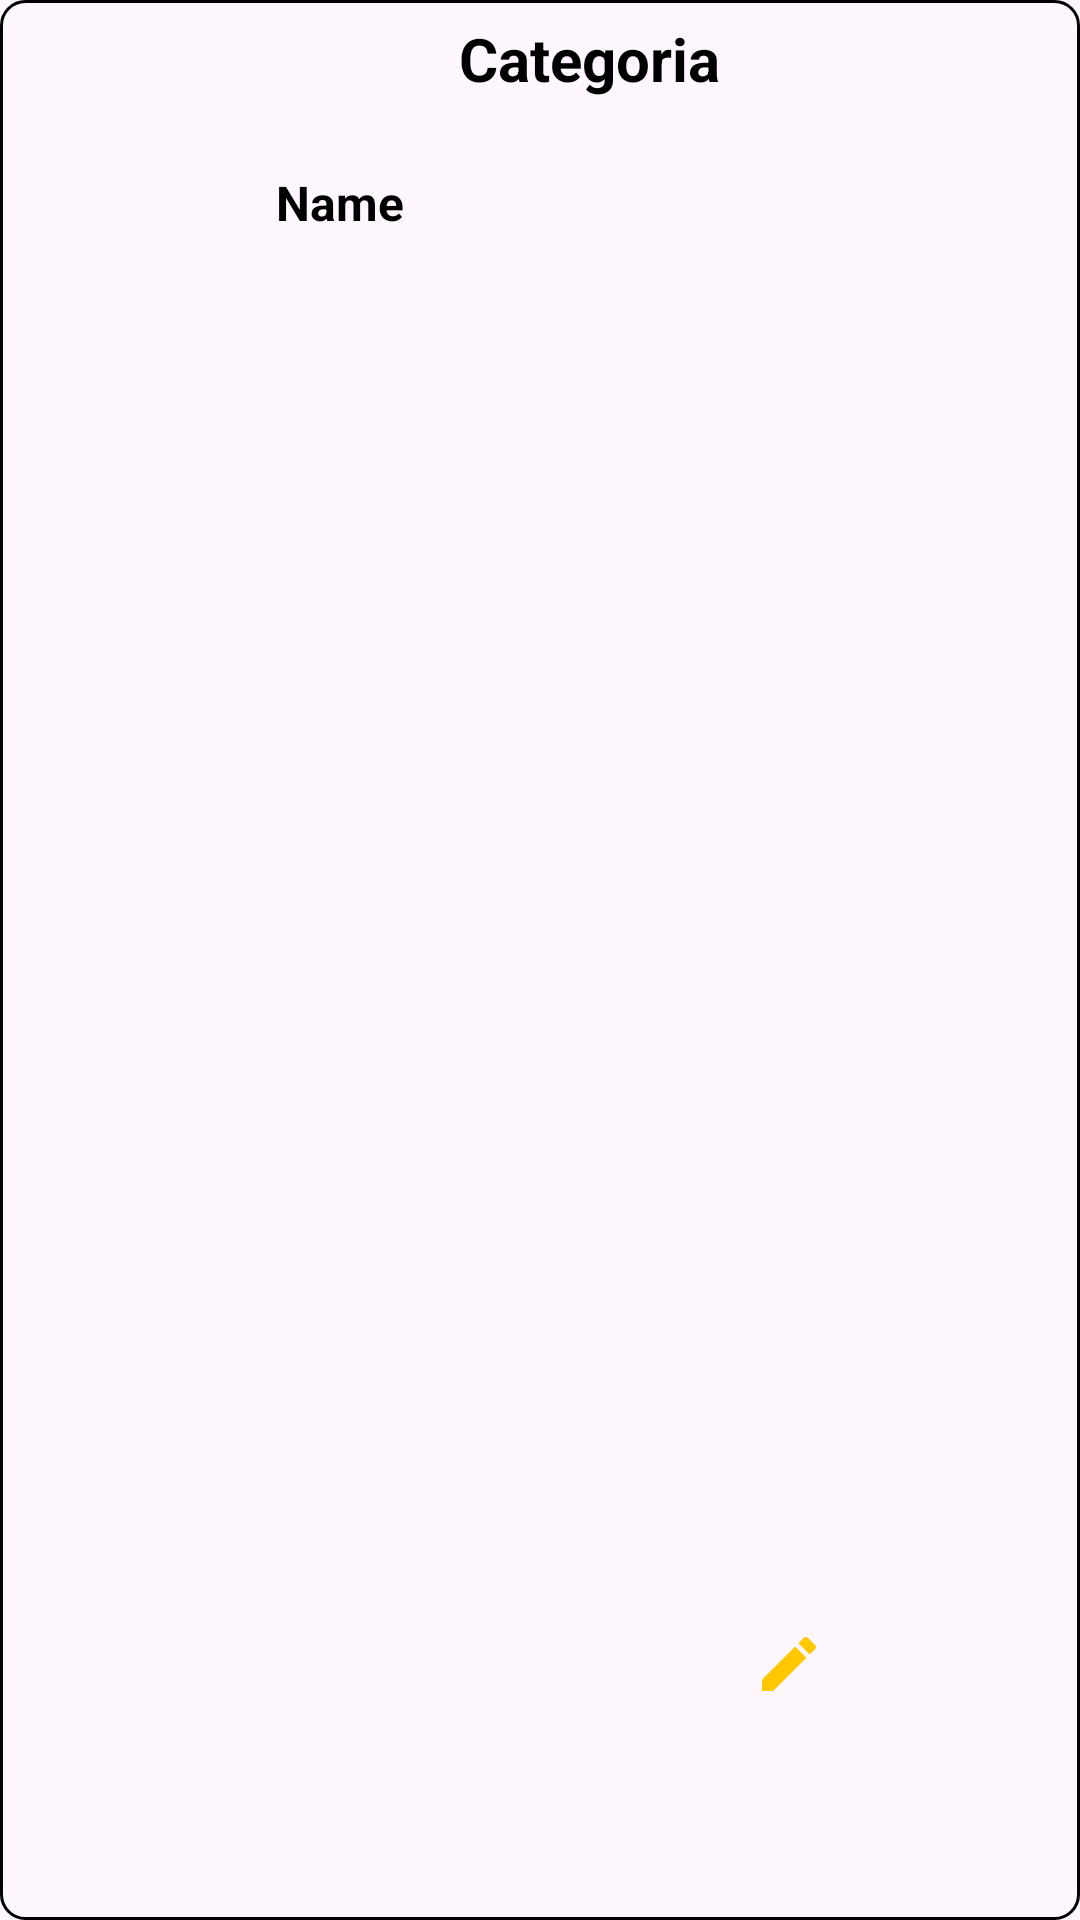

Icons on this 1080 × 1920 Android screen, each with the point to tap as (x=x, y=y):
edit: (x=789, y=1664)
